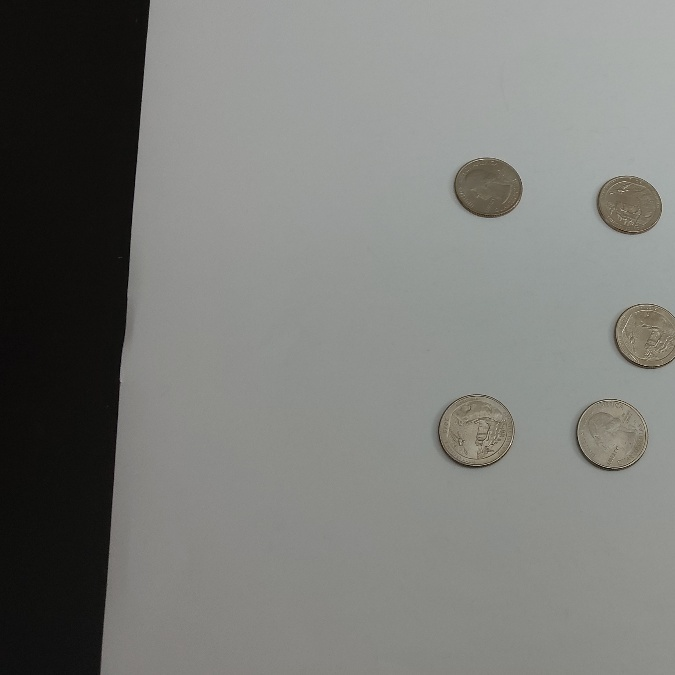coin_quarter: (568, 395, 653, 475), (430, 392, 515, 471), (589, 162, 663, 234), (451, 150, 525, 221)
